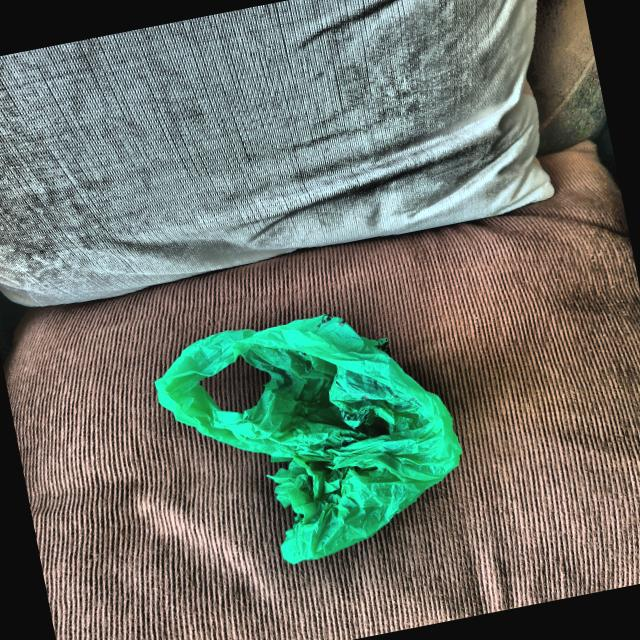plastic bag: (143, 282, 482, 584)
